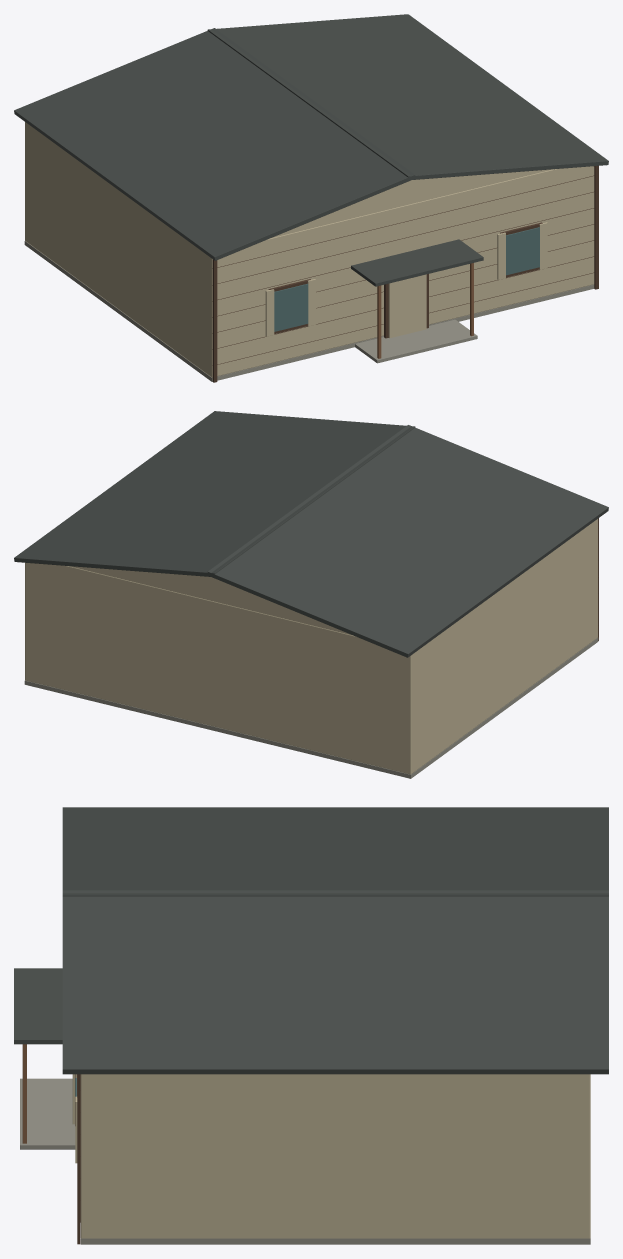
File: env_house_ranch_a.gltf
3 views of the same model, one above another, from view 1: azimuth 30°, elevation 25°; view 2: azimuth 150°, elevation 25°; view 3: azimuth 270°, elevation 25° (orthographic). The views are drawn at different scales.
Visible parts, largest first — view 1: env_house_ranch_a__roof, env_house_ranch_a__paint_cream, env_house_ranch_a__concrete, env_house_ranch_a__wood_edge, env_house_ranch_a__glass, env_house_ranch_a__wood; view 2: env_house_ranch_a__roof, env_house_ranch_a__paint_cream, env_house_ranch_a__concrete; view 3: env_house_ranch_a__roof, env_house_ranch_a__paint_cream, env_house_ranch_a__concrete, env_house_ranch_a__wood_edge.
Part boxes in pixels (x1=…): env_house_ranch_a__roof: x1=14, y1=14, x2=608, y2=286; env_house_ranch_a__paint_cream: x1=25, y1=122, x2=594, y2=377; env_house_ranch_a__concrete: x1=24, y1=241, x2=594, y2=381; env_house_ranch_a__wood_edge: x1=212, y1=166, x2=598, y2=382; env_house_ranch_a__glass: x1=274, y1=227, x2=539, y2=331; env_house_ranch_a__wood: x1=377, y1=263, x2=473, y2=358; env_house_ranch_a__roof: x1=14, y1=411, x2=608, y2=657; env_house_ranch_a__paint_cream: x1=25, y1=519, x2=597, y2=774; env_house_ranch_a__concrete: x1=24, y1=638, x2=598, y2=778; env_house_ranch_a__roof: x1=14, y1=807, x2=608, y2=1074; env_house_ranch_a__paint_cream: x1=72, y1=1074, x2=590, y2=1238; env_house_ranch_a__concrete: x1=20, y1=1078, x2=590, y2=1244; env_house_ranch_a__wood_edge: x1=75, y1=1074, x2=80, y2=1244.
Bounding box in the file's own units: 51.06 × 20.32 × 49.
